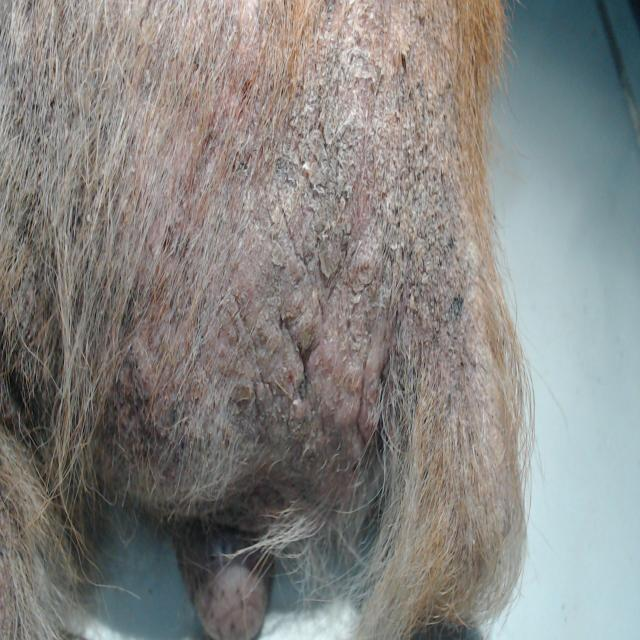demodicosis: (173, 74, 432, 420)
